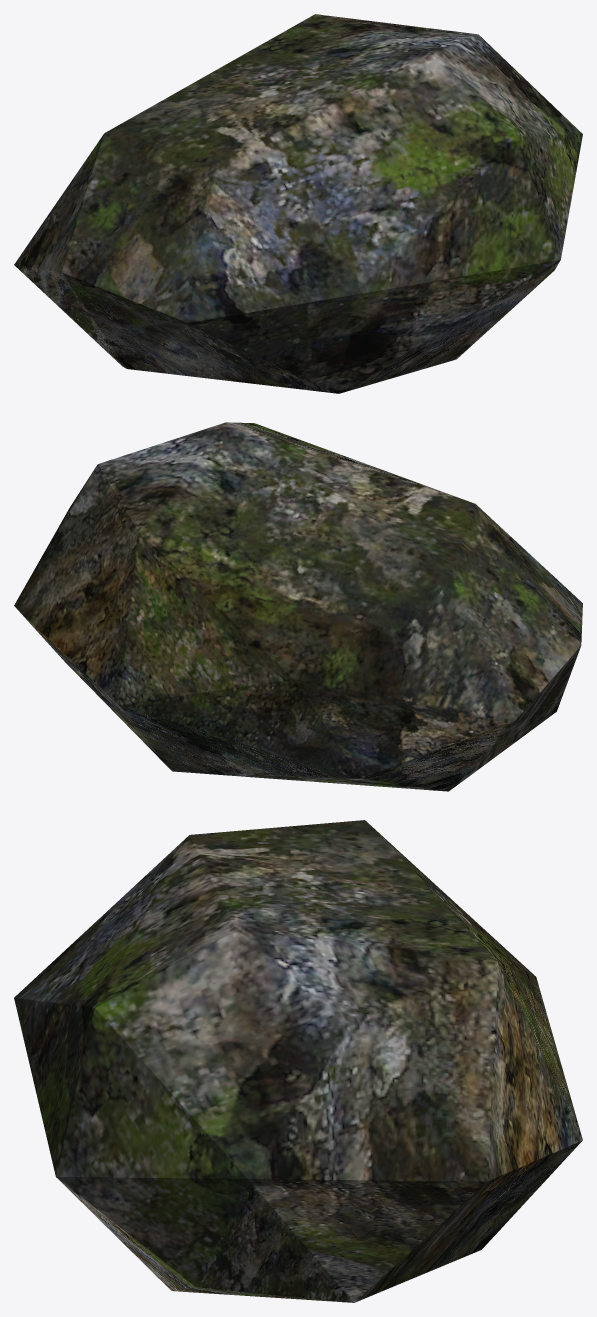
Rendered from rock_rough_mossy_coverstone_a.fbx.
3 renders of one model, top to bottom at view 1: azimuth 30°, elevation 25°; view 2: azimuth 150°, elevation 25°; view 3: azimuth 270°, elevation 25°, orthographic. The views are drawn at different scales.
Parts seen in each view (by area): view 1: Cube; view 2: Cube; view 3: Cube.
Part boxes in pixels (bbox=[...]): Cube: bbox=[14, 14, 582, 393]; Cube: bbox=[14, 422, 582, 791]; Cube: bbox=[14, 820, 582, 1302].
Size of the model in its own units: 44.22 by 23.22 by 33.09.
